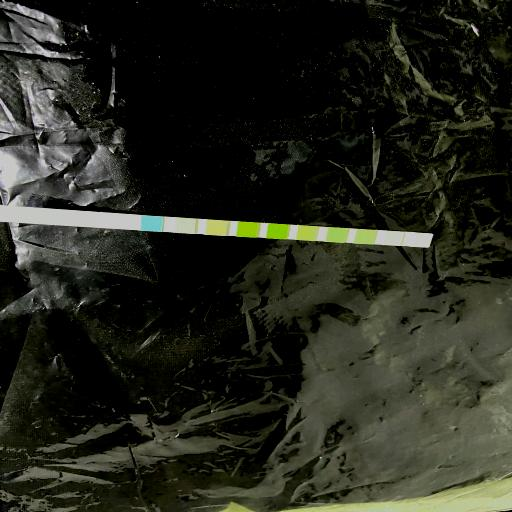Bilirubin: (174, 218, 194, 232)
Blood: (268, 224, 286, 238)
Glucose: (142, 216, 162, 230)
Ketone: (206, 221, 226, 235)
Leukocytes: (414, 234, 430, 246)
Nitrite: (385, 232, 401, 246)
Protein: (328, 228, 344, 242)
SpGravity: (238, 222, 256, 236)
Urobilinogen: (356, 230, 373, 244)
pH: (299, 226, 315, 240)
strip: (0, 205, 434, 248)
